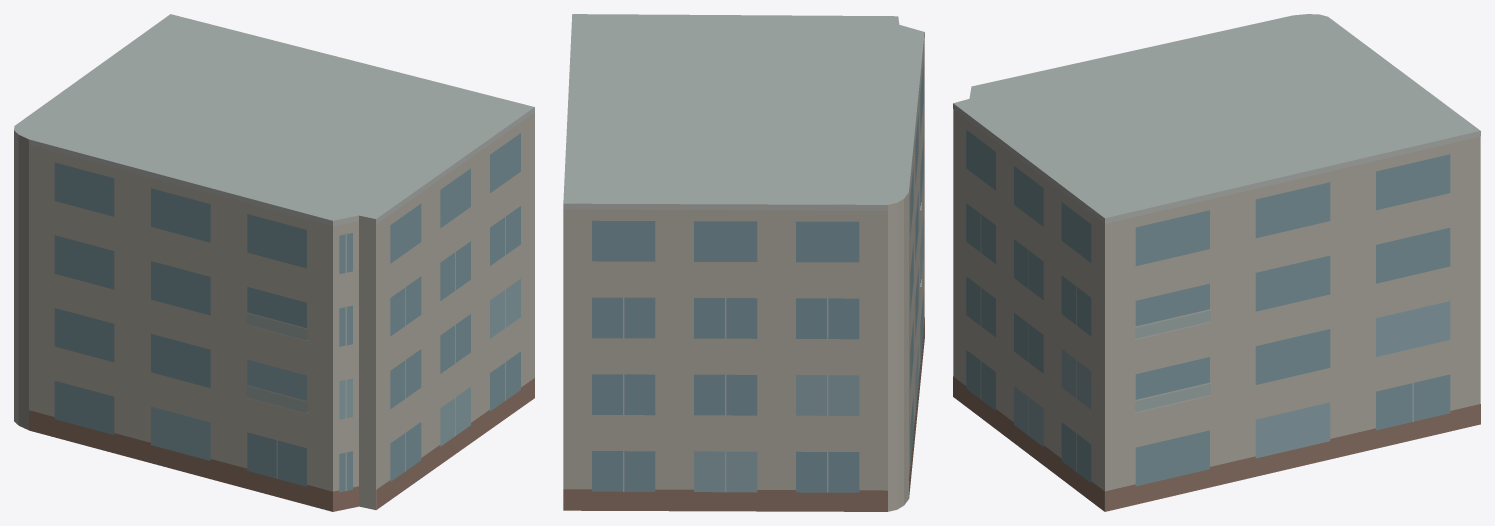
File: survey-upis-32584911.glb
3 renders of one model, left to right at view 1: azimuth 30°, elevation 25°; view 2: azimuth 150°, elevation 25°; view 3: azimuth 270°, elevation 25°, orthographic. The views are drawn at different scales.
Visible parts, largest first — view 1: survey-upis-32584911.tmp; view 2: survey-upis-32584911.tmp; view 3: survey-upis-32584911.tmp.
Part boxes in pixels (x1,y1,x2,y2): survey-upis-32584911.tmp: (14, 14, 534, 511); survey-upis-32584911.tmp: (563, 14, 924, 511); survey-upis-32584911.tmp: (953, 14, 1480, 511).
Bounding box in the file's own units: 19.12 × 12.8 × 20.86.
